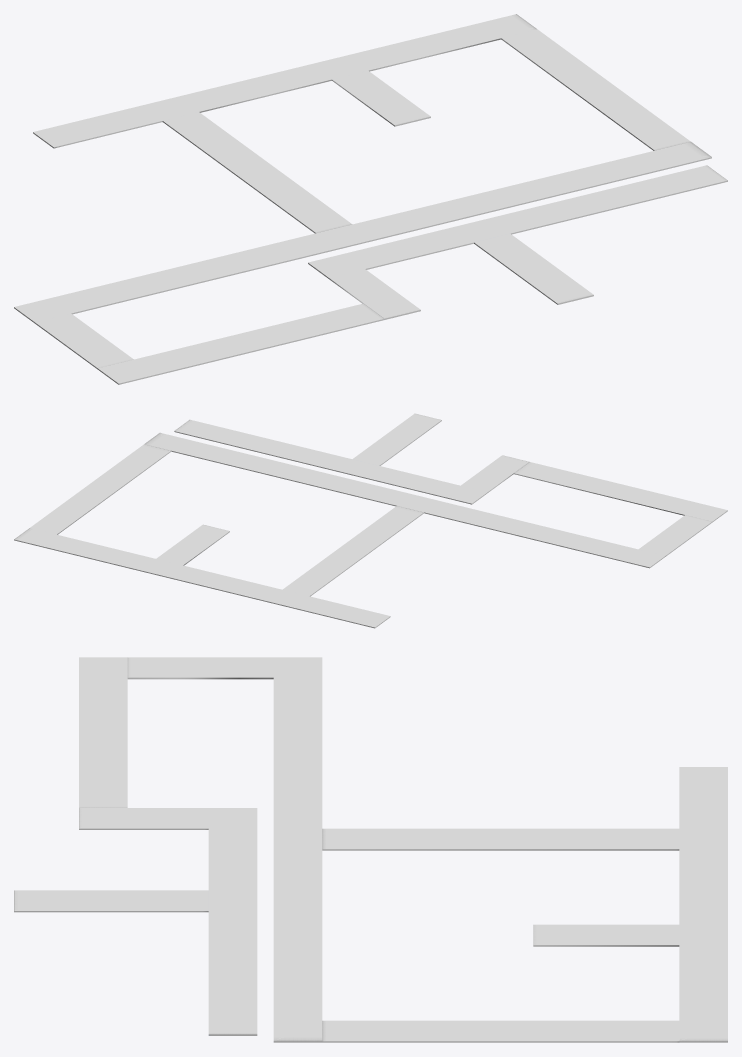
Rendered from Tile_Ceiling.fbx.
3 views of the same model, one above another, from view 1: azimuth 30°, elevation 25°; view 2: azimuth 150°, elevation 25°; view 3: azimuth 270°, elevation 25° (orthographic). The views are drawn at different scales.
Parts seen in each view (by area): view 1: polySurface39; view 2: polySurface39; view 3: polySurface39.
Part boxes in pixels (x1,y1,x2,y2): polySurface39: (14,14,727,384); polySurface39: (14,413,727,628); polySurface39: (14,657,727,1042).
Bounding box in the file's own units: 56 × 0.1 × 44.
